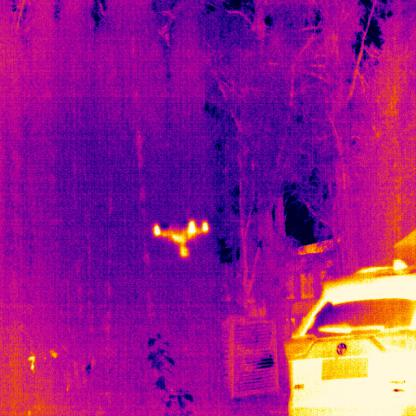drone: (152, 220, 209, 258)
